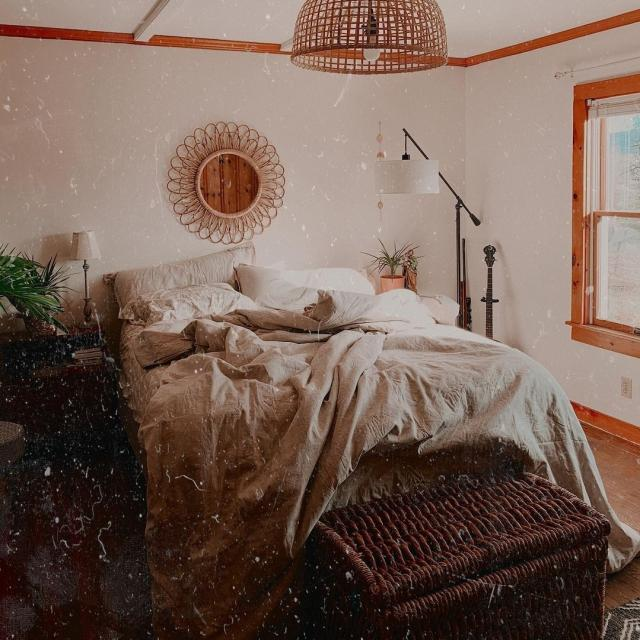bed: (118, 235, 546, 498)
